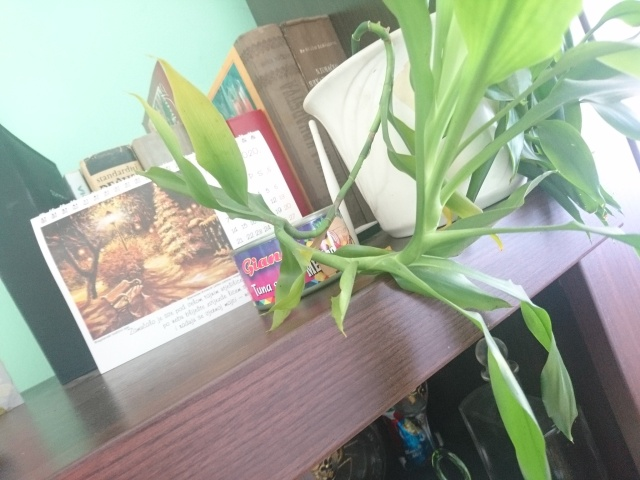Giana Tuna Salad Mexico 185g: (228, 202, 360, 313)
